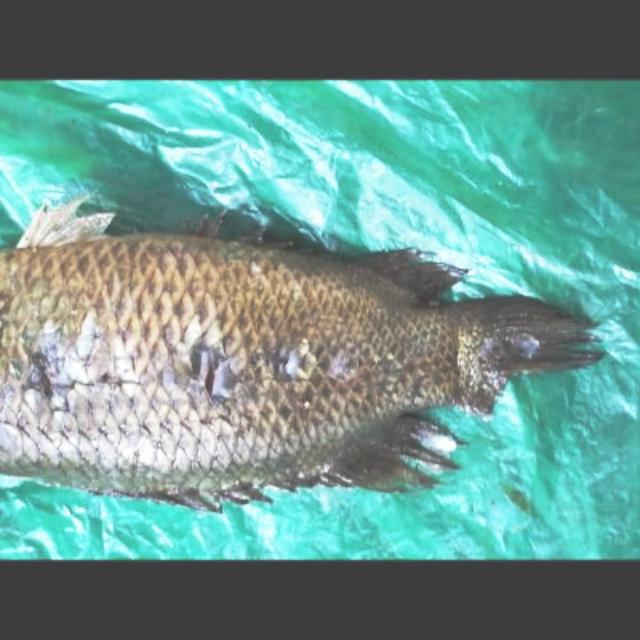Columnaris Disease: (0, 195, 602, 510)
